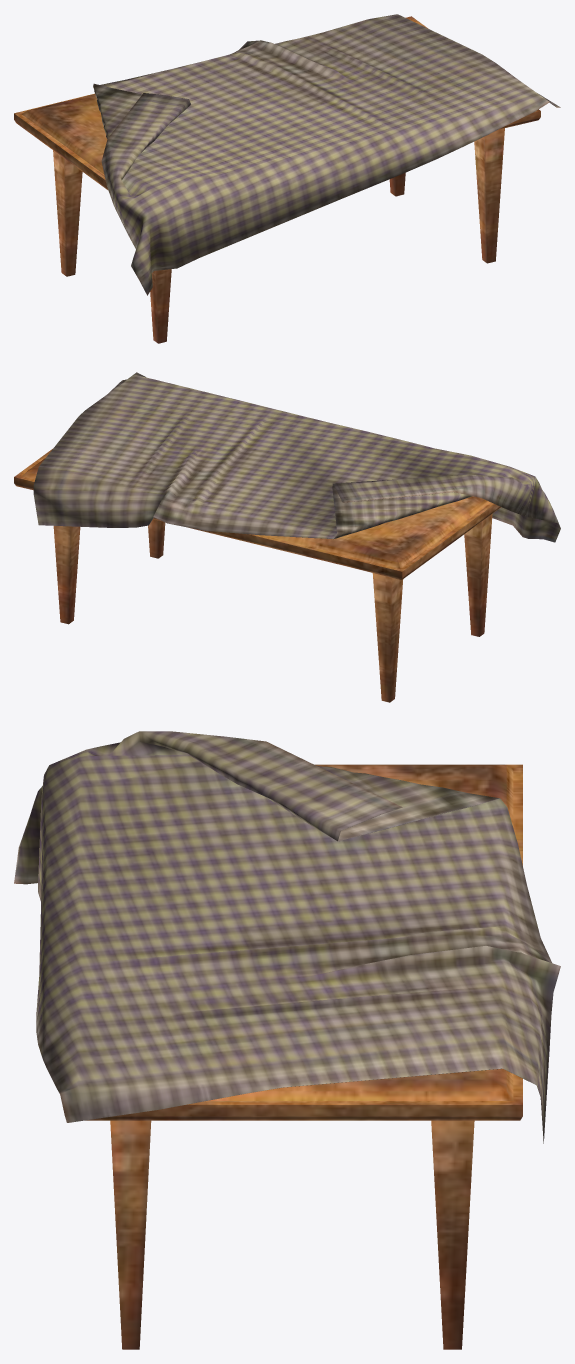
3 renders of one model, top to bottom at view 1: azimuth 30°, elevation 25°; view 2: azimuth 150°, elevation 25°; view 3: azimuth 270°, elevation 25°, orthographic. The views are drawn at different scales.
Parts seen in each view (by area): view 1: dining_table_cloth, dining_table; view 2: dining_table_cloth, dining_table; view 3: dining_table_cloth, dining_table.
Part boxes in pixels (box(x1,y1,x2,y2)): dining_table_cloth: box(93, 14, 560, 295); dining_table: box(14, 16, 540, 343); dining_table_cloth: box(33, 372, 560, 542); dining_table: box(14, 449, 501, 702); dining_table_cloth: box(14, 731, 560, 1143); dining_table: box(85, 764, 522, 1349).
Size of the model in its own units: 2.26 by 0.877 by 1.39.
Materials: 1 (1 with a texture image).
